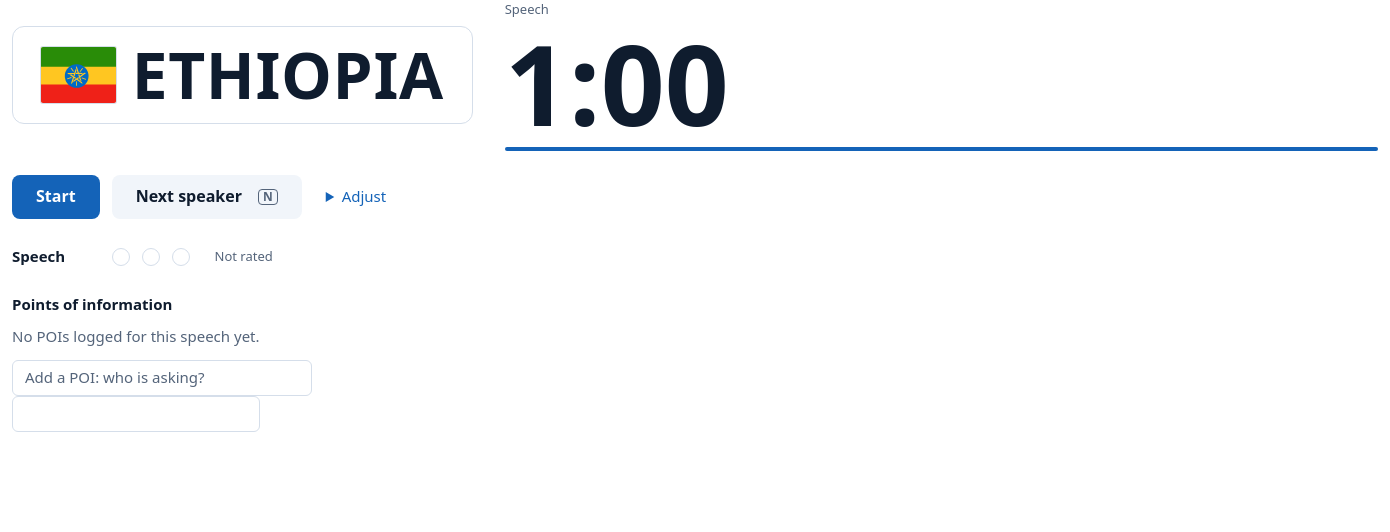
Test: SpeechPanel POIs › queues several delegates in a row without scoring them
This screenshot has width=1390, height=532.
What coordinates should you click on to do the following:
click the dropdown named "POI from"
I would click on:
 (162, 378)
Its box is [12,360,312,396].
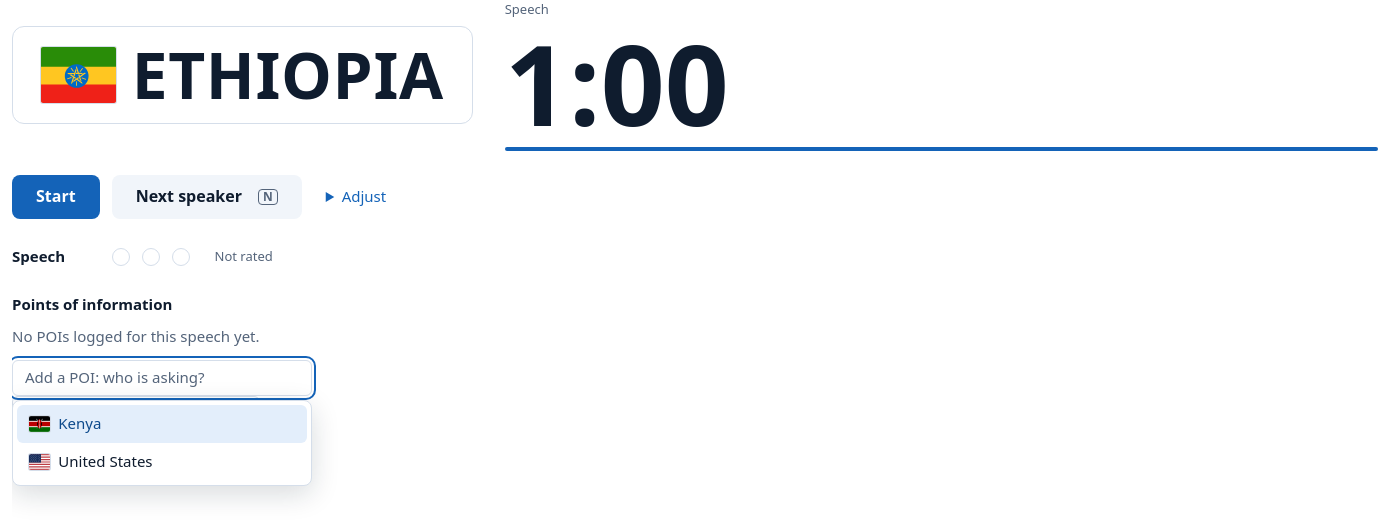
What coordinates should you click on to do the following:
click the option "Kenya"
I would click on:
 (80, 423)
Its box is [17,405,307,443].
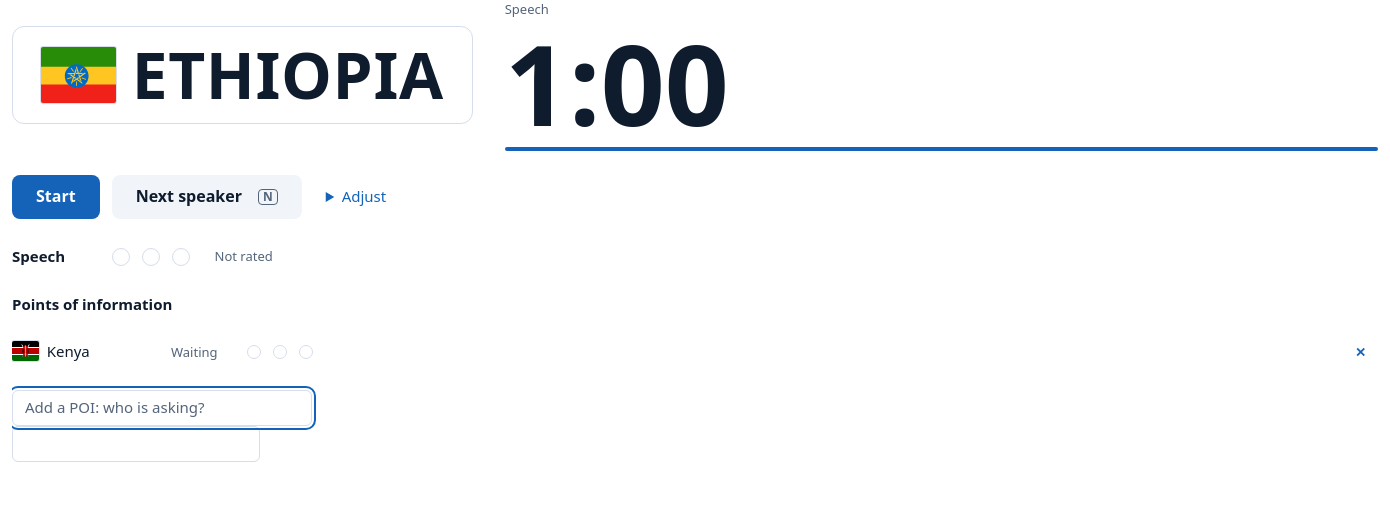
What coordinates should you click on to do the following:
click the dropdown named "POI from"
I would click on:
 (162, 408)
Its box is [12,390,312,426].
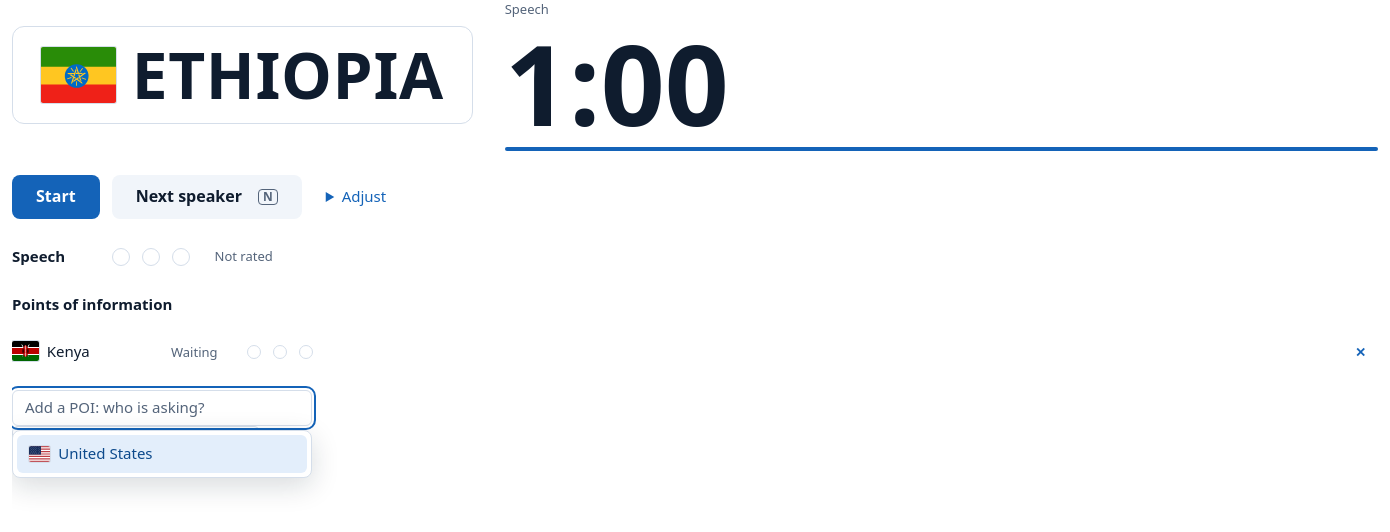
What coordinates should you click on to do the following:
click the option "United States"
I would click on:
 (105, 453)
Its box is [17,435,307,473].
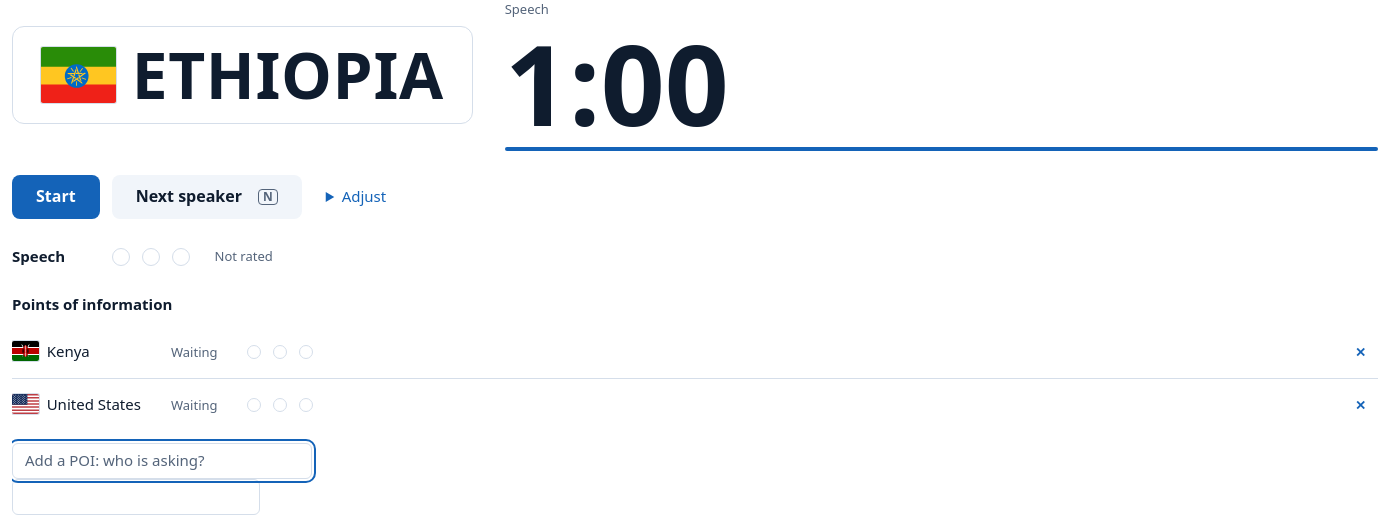
Expected: the text "No POIs logged for this speech yet." is not shown
Expected: the element named "Rate question from Kenya" is shown, [242,340,318,364]
Expected: the text "Waiting" is shown 2 times, [171,343,218,362]; [171,396,218,415]
